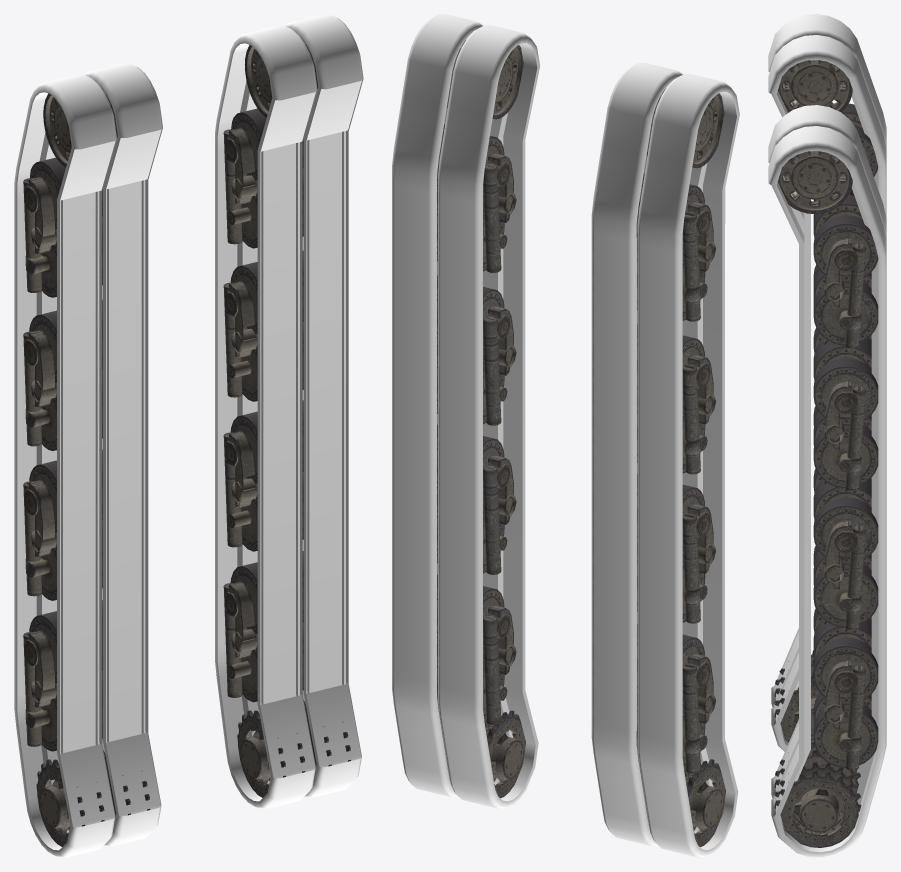
The model's file is Chassis.glb.
The picture shows the model from 3 angles, left to right: view 1: azimuth 30°, elevation 25°; view 2: azimuth 150°, elevation 25°; view 3: azimuth 270°, elevation 25°; orthographic projection. The views are drawn at different scales.
Parts seen in each view (by area): view 1: set_0_group_0, set_1_group_0, set_3_group_0, set_2_group_0; view 2: set_0_group_0, set_1_group_0, set_2_group_0, set_3_group_0; view 3: set_3_group_0, set_1_group_0, set_0_group_0, set_2_group_0.
Boxes of the visible parts, x1=… form: set_0_group_0: x1=14, y1=63, x2=162, y2=857; set_1_group_0: x1=215, y1=14, x2=363, y2=808; set_3_group_0: x1=223, y1=39, x2=350, y2=797; set_2_group_0: x1=23, y1=87, x2=150, y2=846; set_0_group_0: x1=591, y1=62, x2=739, y2=857; set_1_group_0: x1=392, y1=14, x2=540, y2=809; set_2_group_0: x1=636, y1=89, x2=725, y2=846; set_3_group_0: x1=437, y1=40, x2=525, y2=798; set_3_group_0: x1=774, y1=151, x2=878, y2=847; set_1_group_0: x1=768, y1=105, x2=886, y2=857; set_0_group_0: x1=768, y1=14, x2=886, y2=751; set_2_group_0: x1=774, y1=59, x2=878, y2=745.
Bounding box in the file's own units: 3.44 × 8.51 × 1.27.
4 materials, 2 textured.
